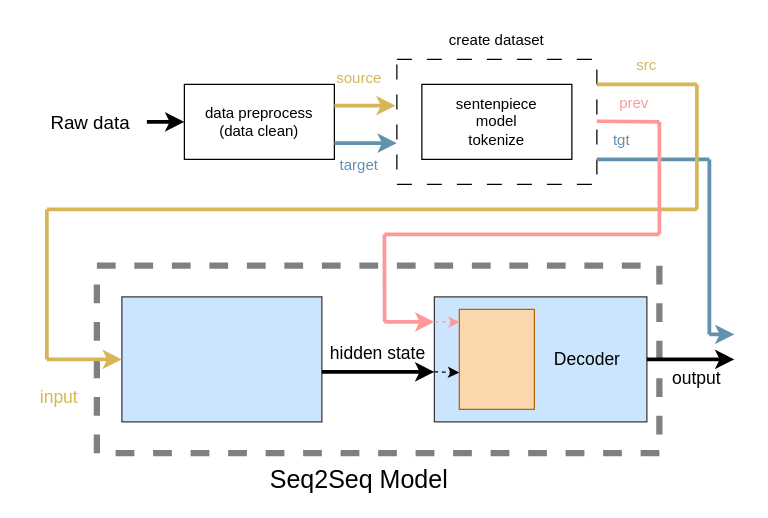
Some shapes in this 768 by 518 pixel diagram are drawn without their labels. The centre of each missing label's shape, as x and y in pixels:
"Attention" belongs at (496,358).
"Encoder" belongs at (221,359).
